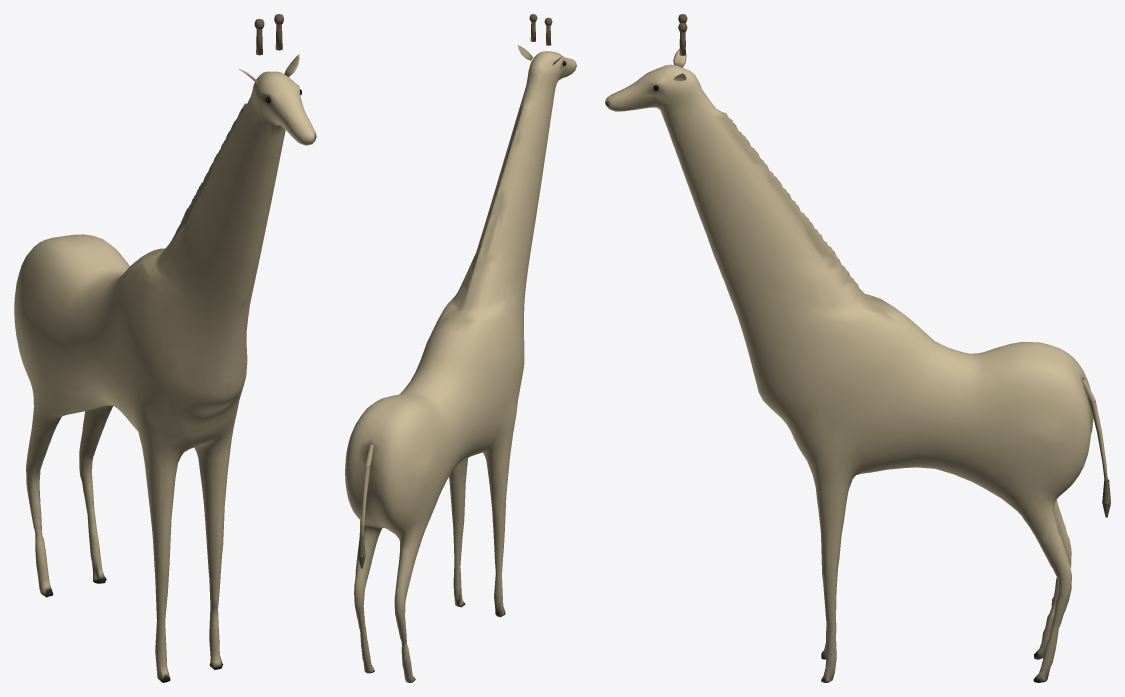
The model's file is giraffe.glb.
The picture shows the model from 3 angles, left to right: view 1: azimuth 30°, elevation 25°; view 2: azimuth 150°, elevation 25°; view 3: azimuth 270°, elevation 25°; orthographic projection. The views are drawn at different scales.
Parts seen in each view (by area): view 1: lack; view 2: lack; view 3: lack.
Boxes of the visible parts, box(x1,y1,x2,y2) form: lack: box(14, 14, 316, 682); lack: box(345, 14, 576, 682); lack: box(605, 14, 1110, 682).
Size of the model in its own units: 0.8017 by 5.57 by 3.92.
